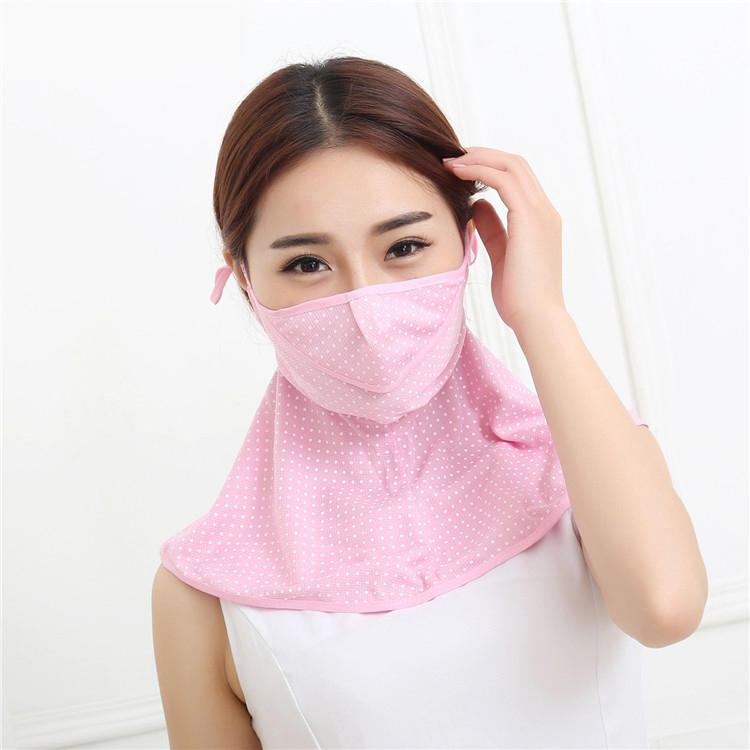face_mask: (245, 147, 467, 423)
